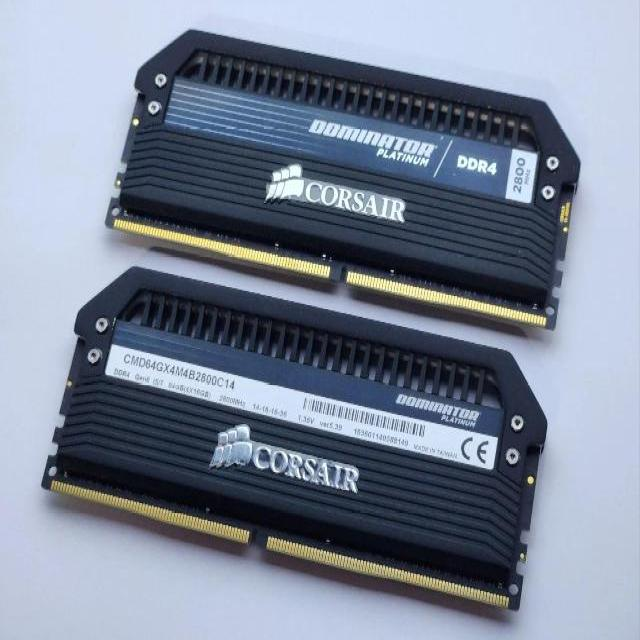RAM: (37, 263, 550, 616), (102, 27, 584, 334)
